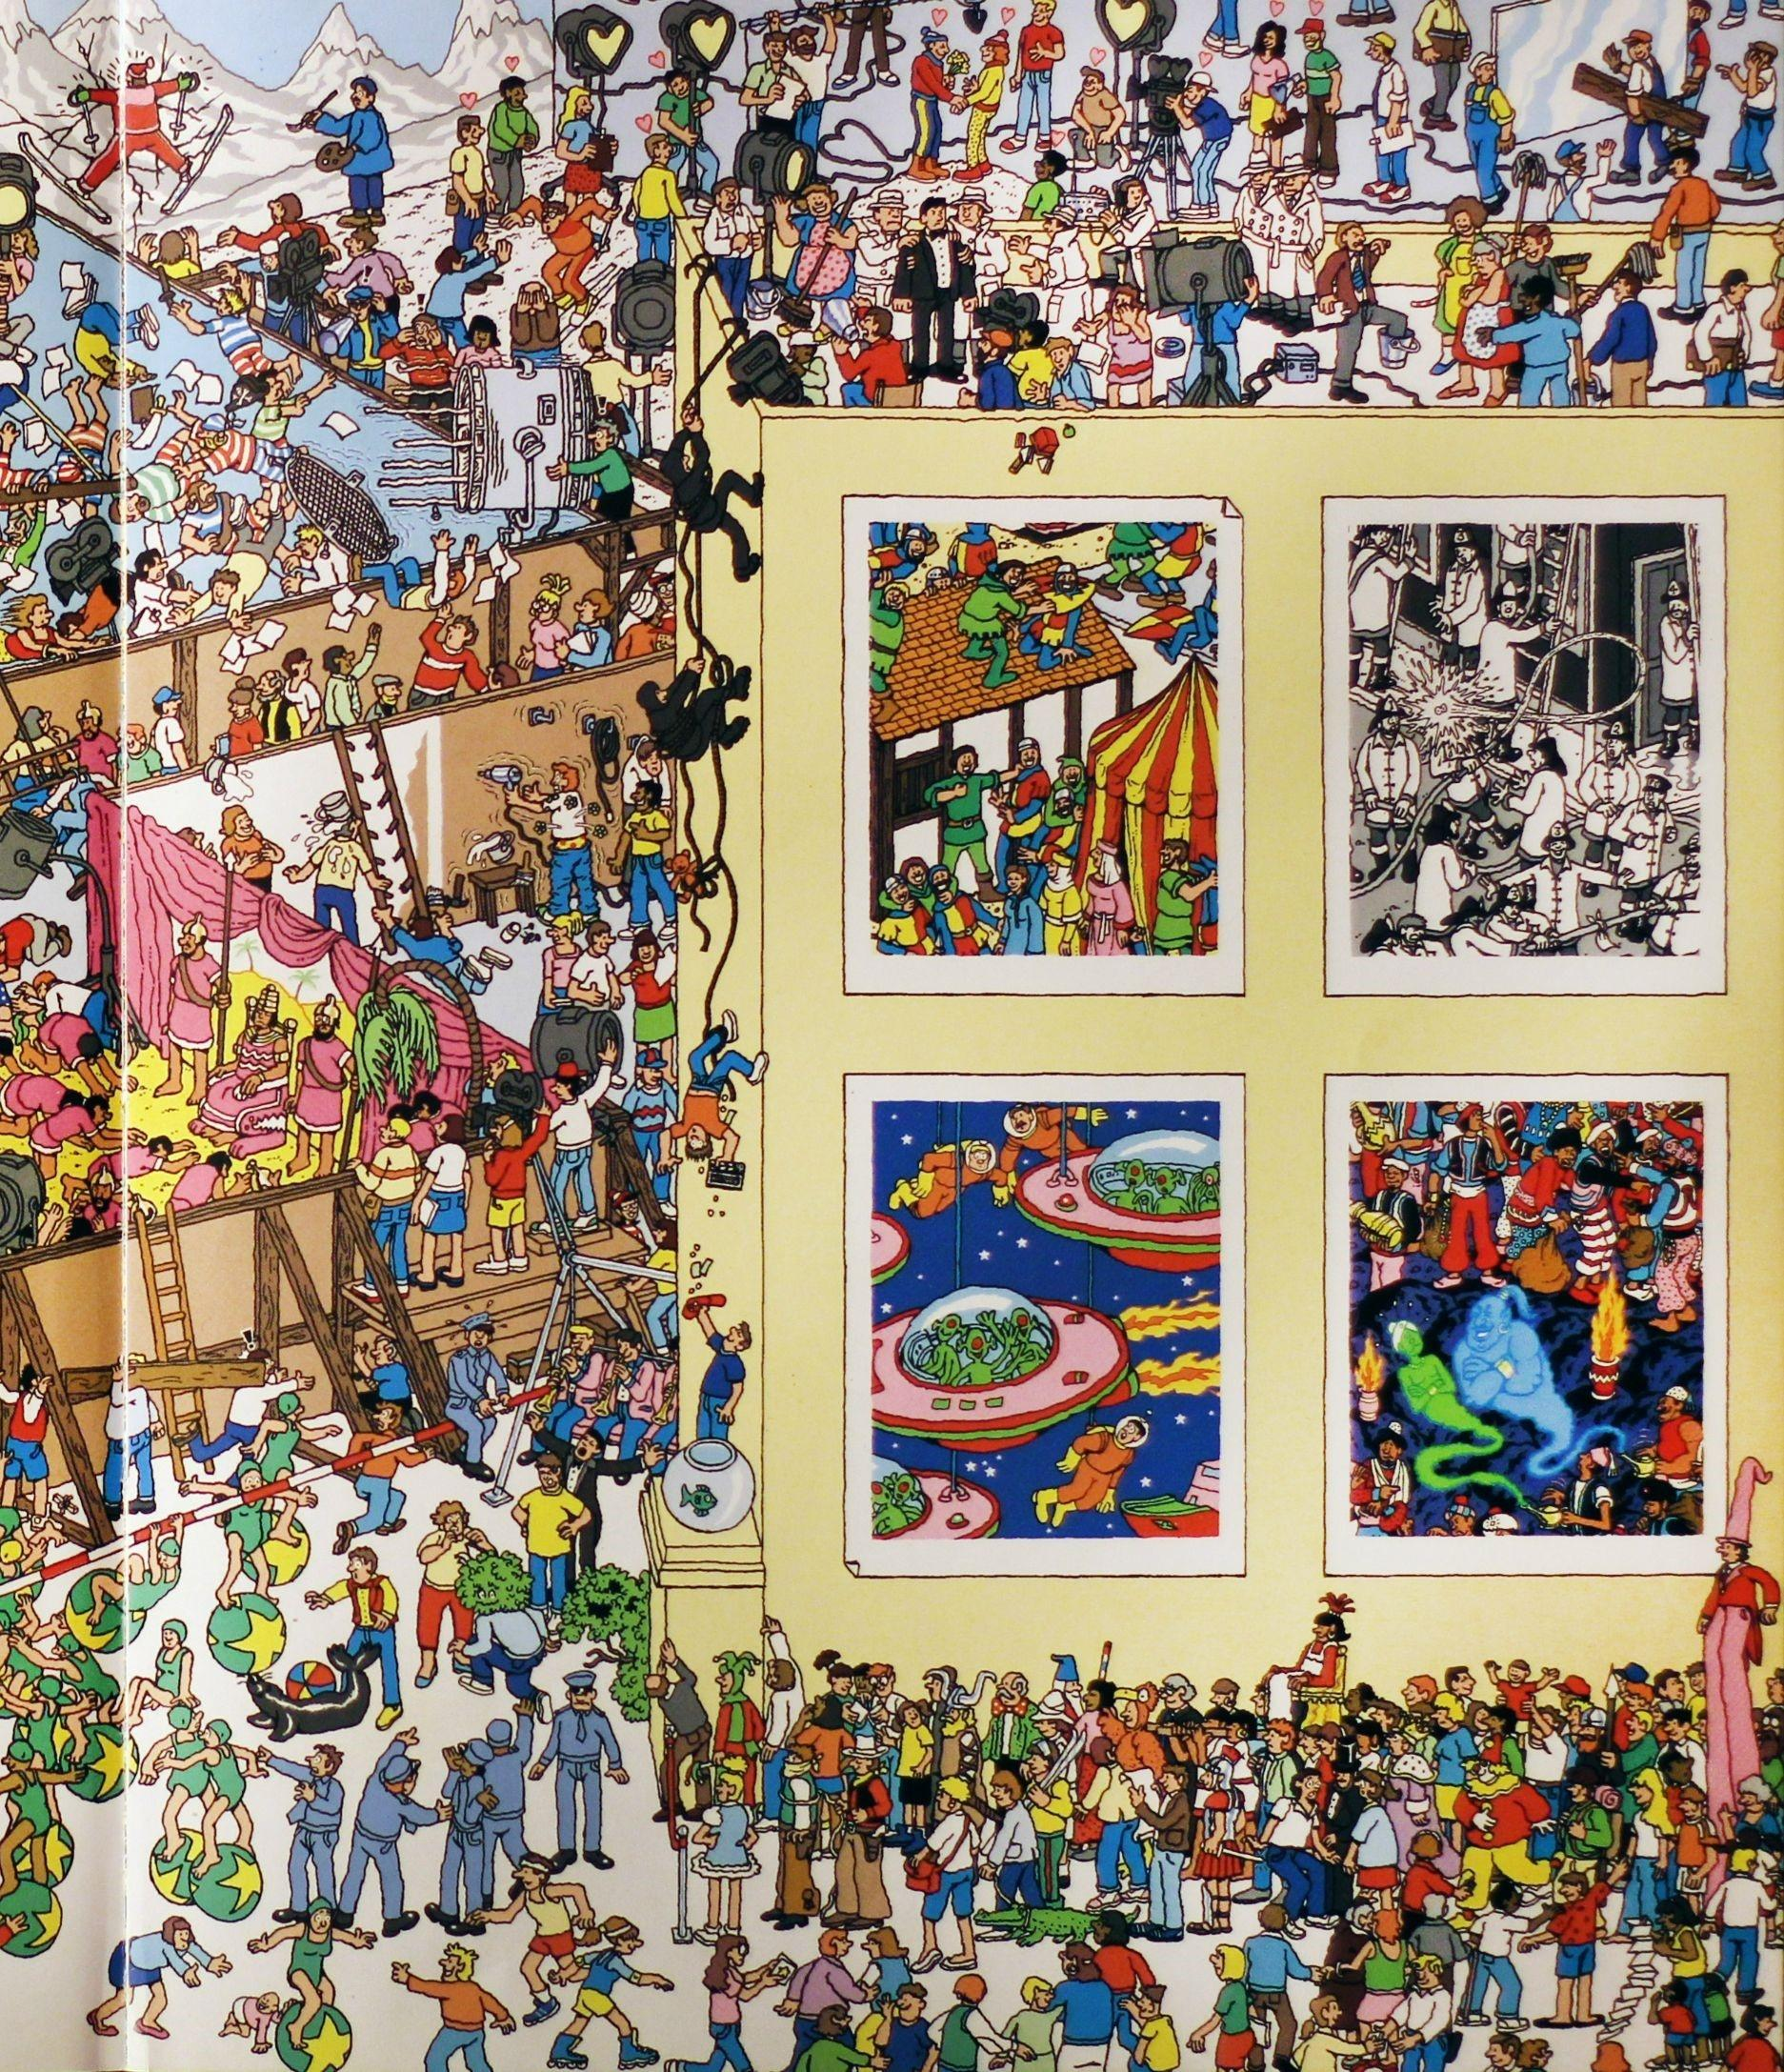waldos: (643, 562, 680, 638)
